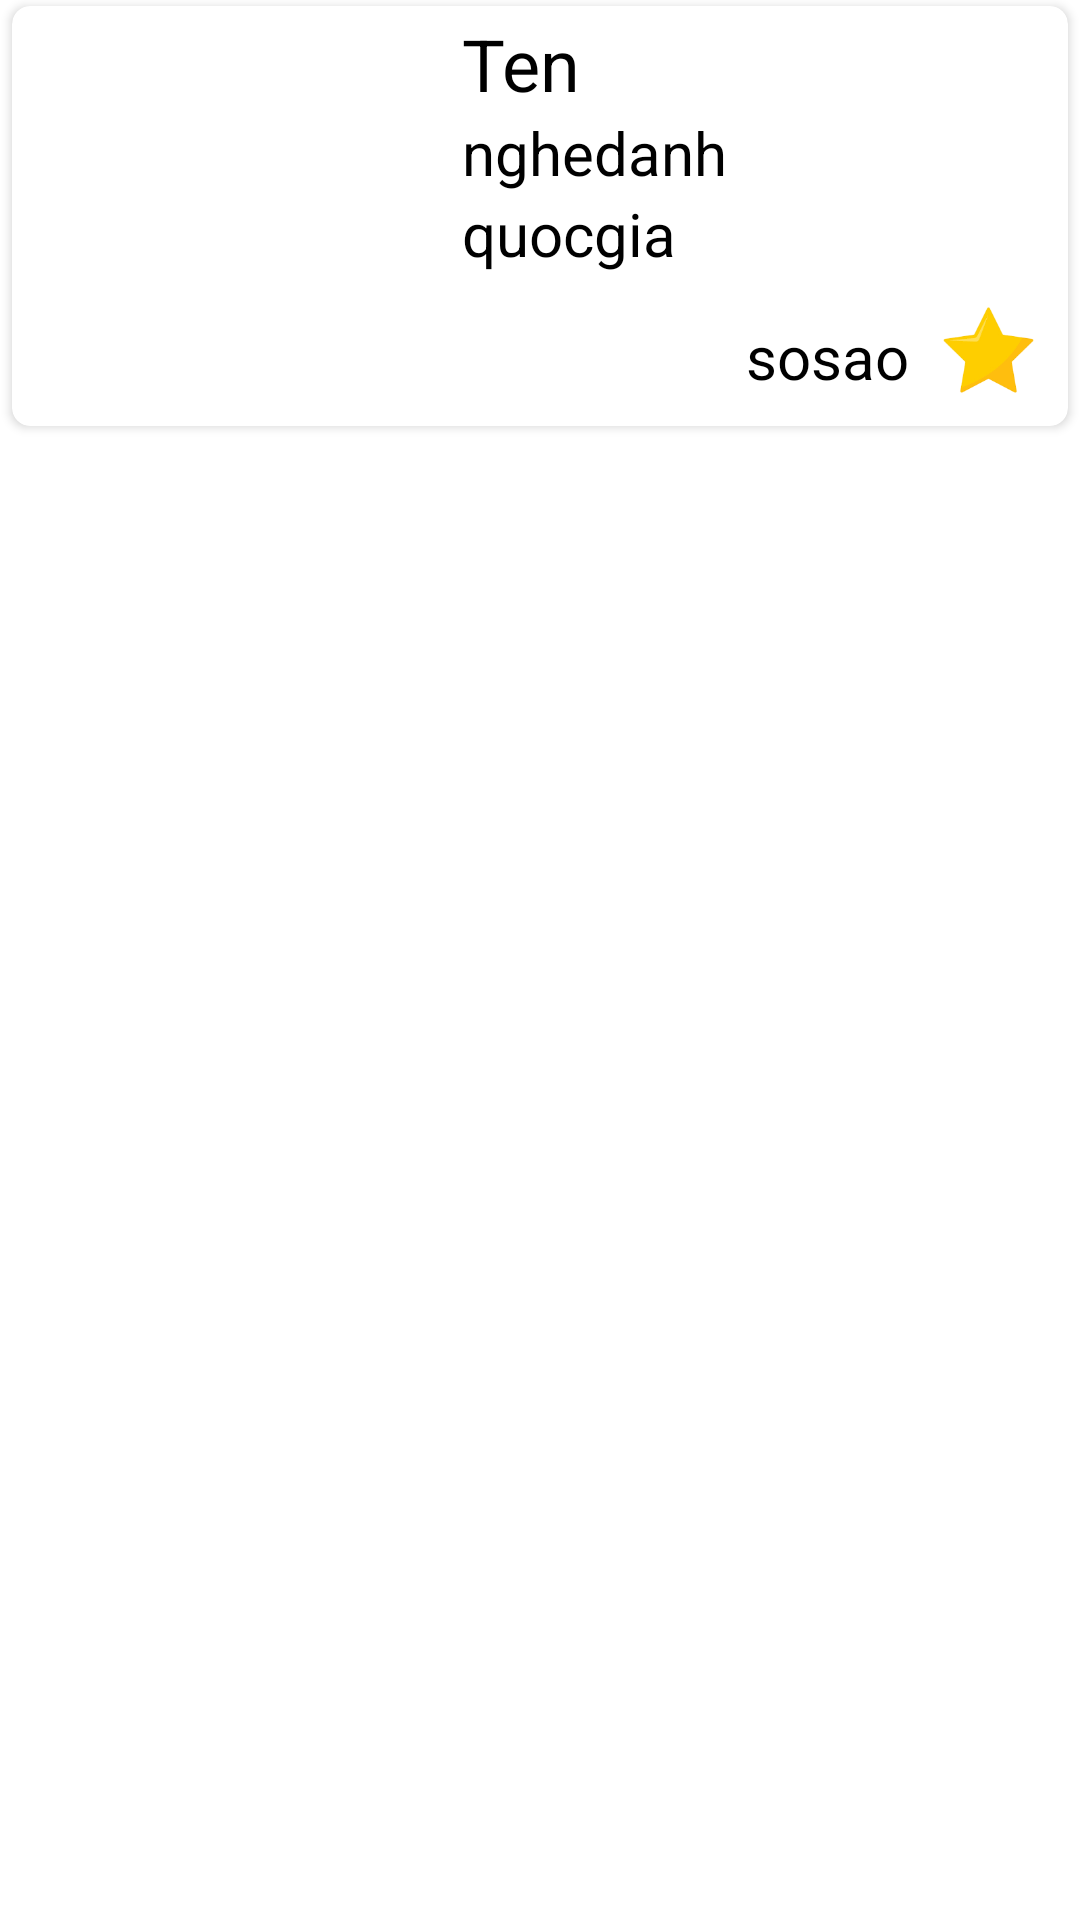

Icon bounding boxes for this 1080px×1920px phone screenshot, format detection(x1, y1, x2, y2):
hinhstar: detection(943, 307, 1068, 424)
